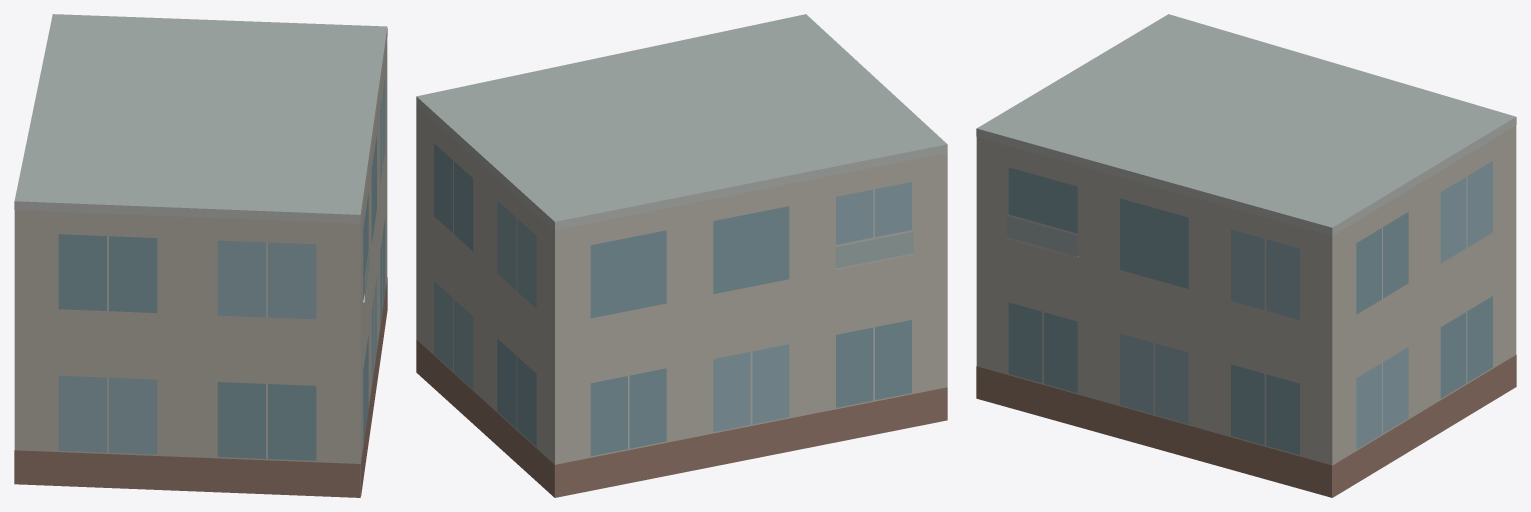
Rendered from survey-upis-32867626.glb.
The picture shows the model from 3 angles, left to right: view 1: azimuth 30°, elevation 25°; view 2: azimuth 150°, elevation 25°; view 3: azimuth 270°, elevation 25°; orthographic projection. The views are drawn at different scales.
Parts seen in each view (by area): view 1: survey-upis-32867626.tmp; view 2: survey-upis-32867626.tmp; view 3: survey-upis-32867626.tmp.
Part boxes in pixels (left/top/right/bottom): survey-upis-32867626.tmp: left=14, top=14, right=387, bottom=497; survey-upis-32867626.tmp: left=416, top=14, right=947, bottom=497; survey-upis-32867626.tmp: left=976, top=14, right=1516, bottom=497.
Bounding box in the file's own units: 13.33 × 7.85 × 14.23.
